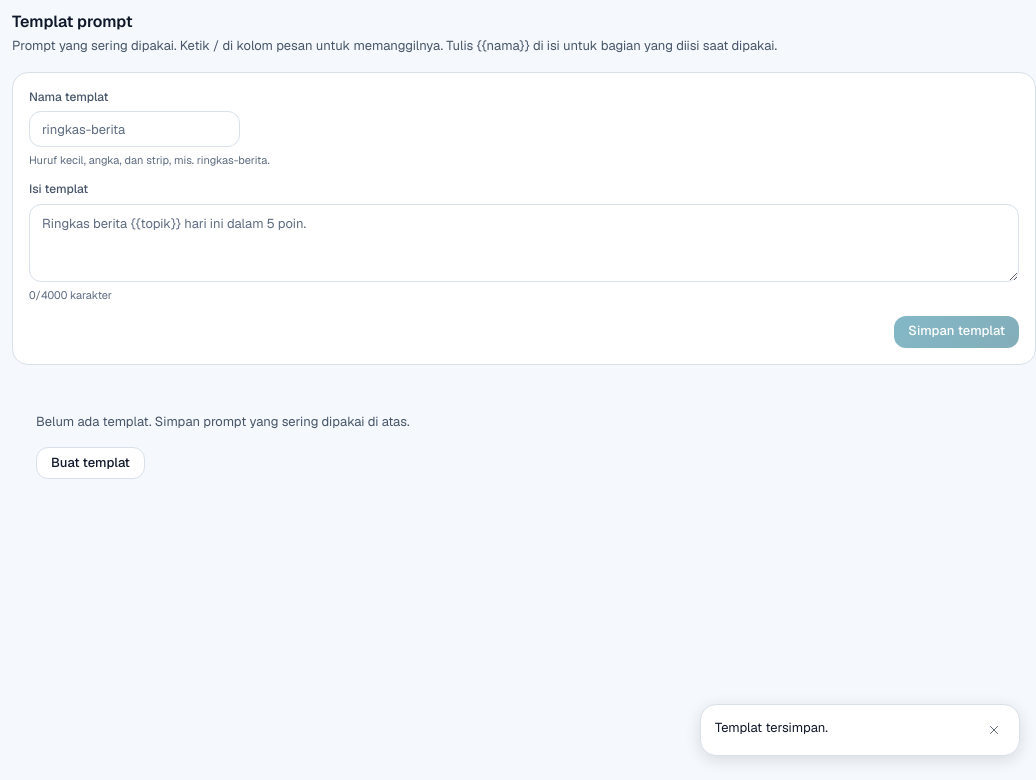
Test: TemplatesSection › nama kembar: toast galat, isian tetap ada
Type "ringkas" into the field labelled "Nama templat" at (134, 129), box [29, 111, 240, 147]
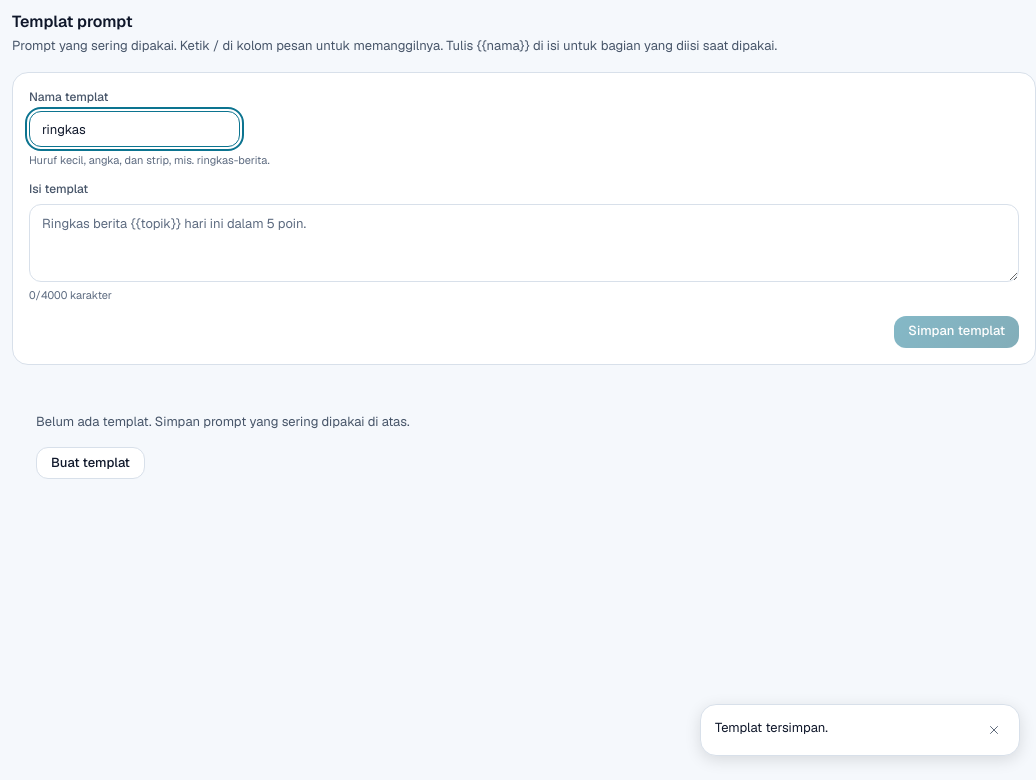
Type "isi" into the text box labelled "Isi templat" at (524, 243), box [29, 204, 1019, 282]
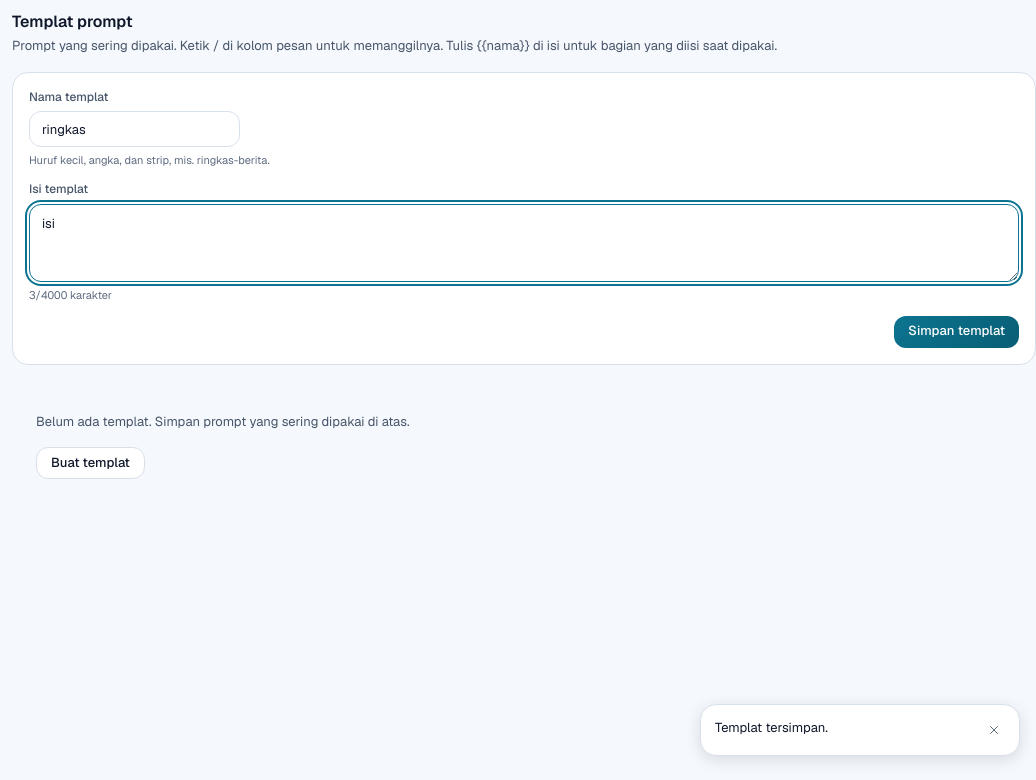
Click the button "Simpan templat" at (957, 332), box [894, 316, 1019, 348]
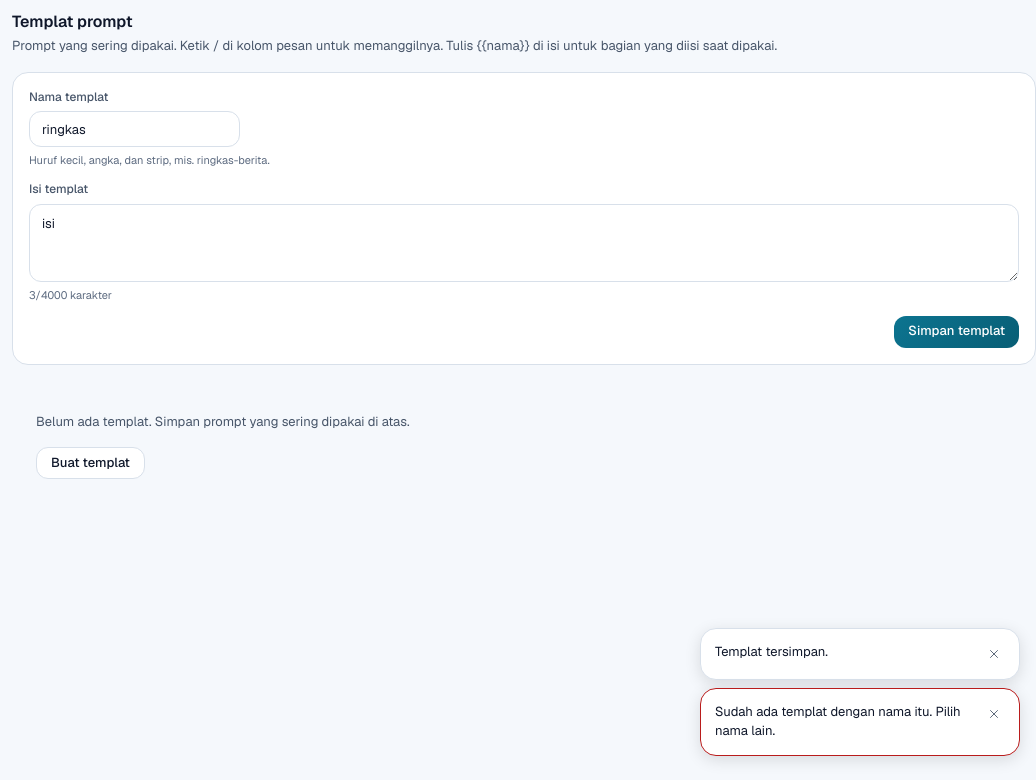
Expected: the text "Sudah ada templat dengan nama itu. Pilih nama lain." is shown, [715, 703, 971, 741]
